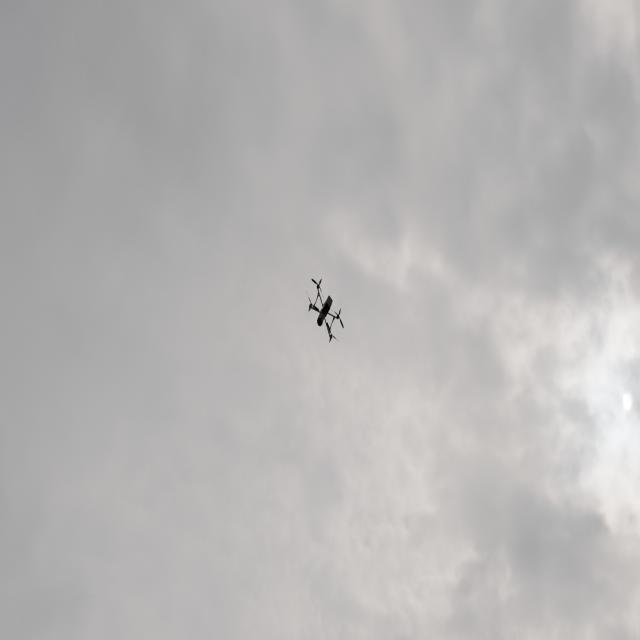drone: (296, 254, 355, 364)
